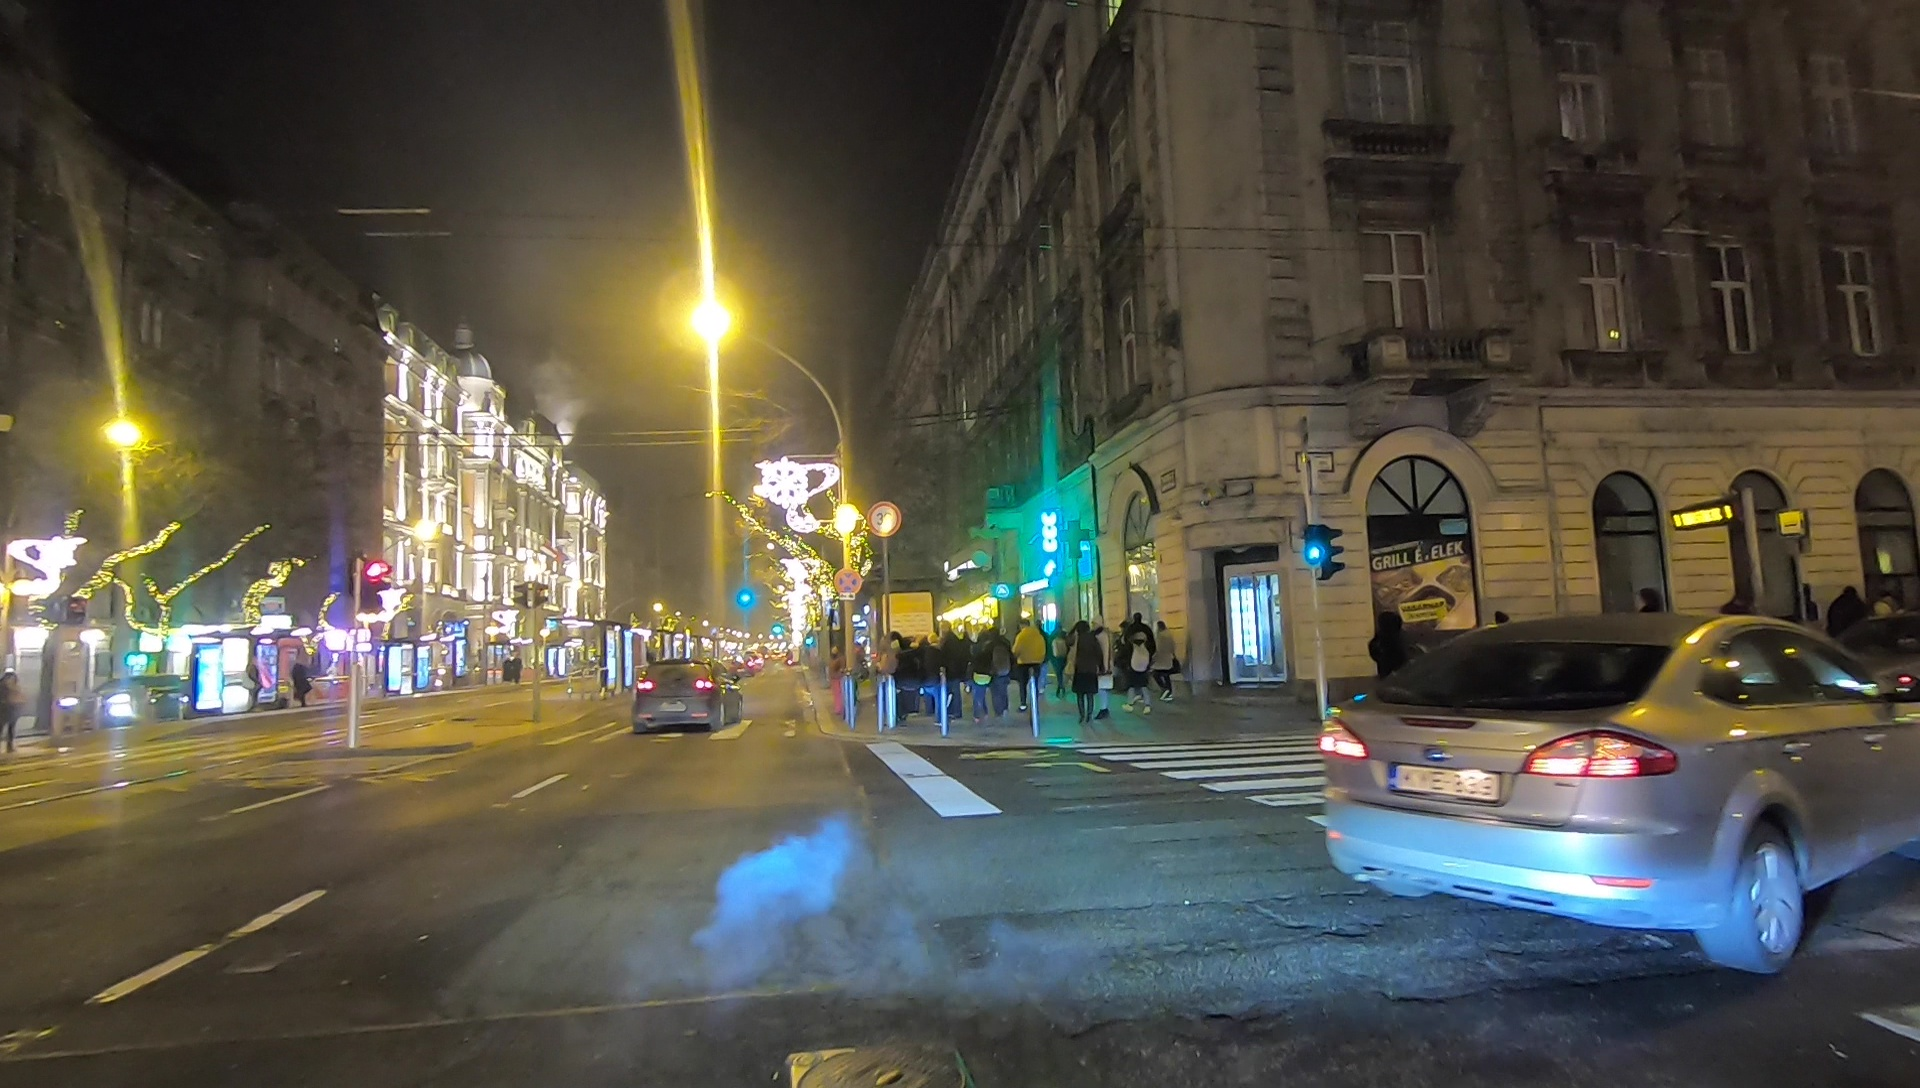person: (1363, 609, 1419, 711), (939, 619, 969, 717), (1123, 623, 1154, 715), (1071, 625, 1096, 720), (989, 627, 1014, 717), (1153, 622, 1181, 700), (1017, 618, 1042, 705), (973, 630, 993, 719), (1, 670, 23, 752), (899, 636, 922, 712), (875, 637, 898, 714), (921, 635, 943, 711), (1093, 622, 1110, 717), (828, 644, 842, 711), (244, 658, 262, 711), (293, 661, 311, 709)
